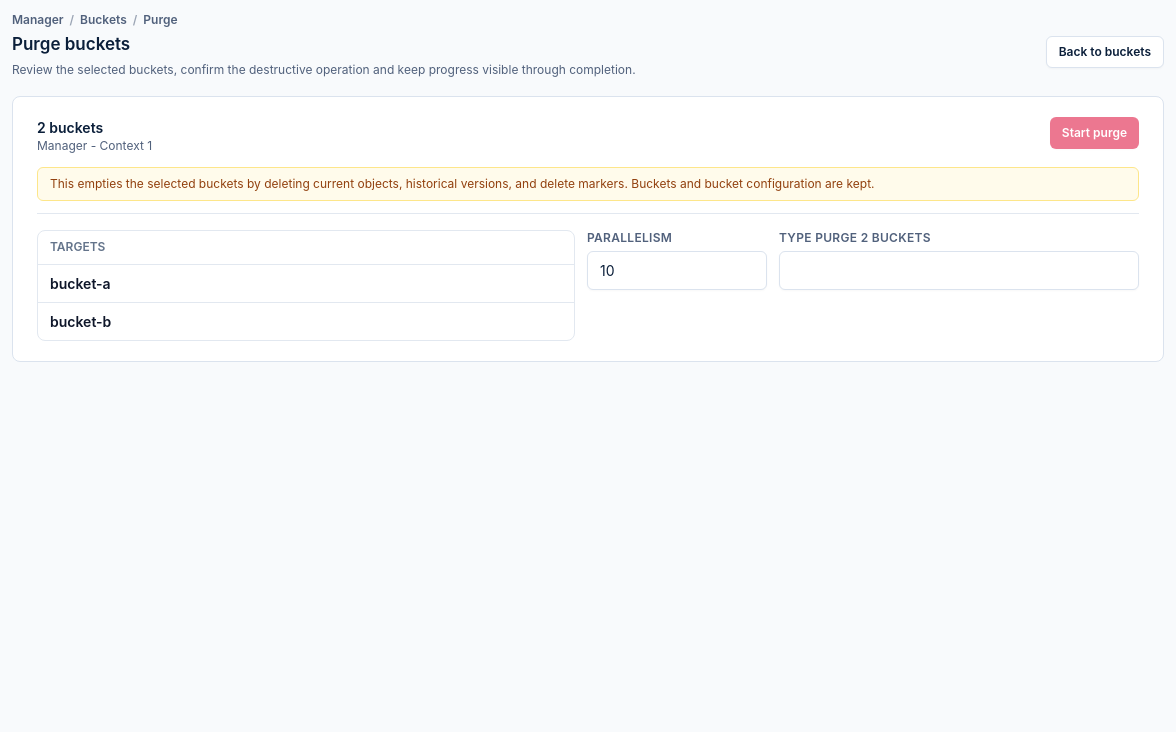
Test: BucketPurgeRunModal › requires the exact confirmation before starting the manager purge
The width and height of the screenshot is (1176, 732).
Expected: the button "Start purge" is disabled, [1050, 117, 1139, 149]
Step 1. Type "PURGE 1 BUCKETS" into the field labelled "Type PURGE 2 BUCKETS" → (959, 270), box [779, 250, 1139, 290]
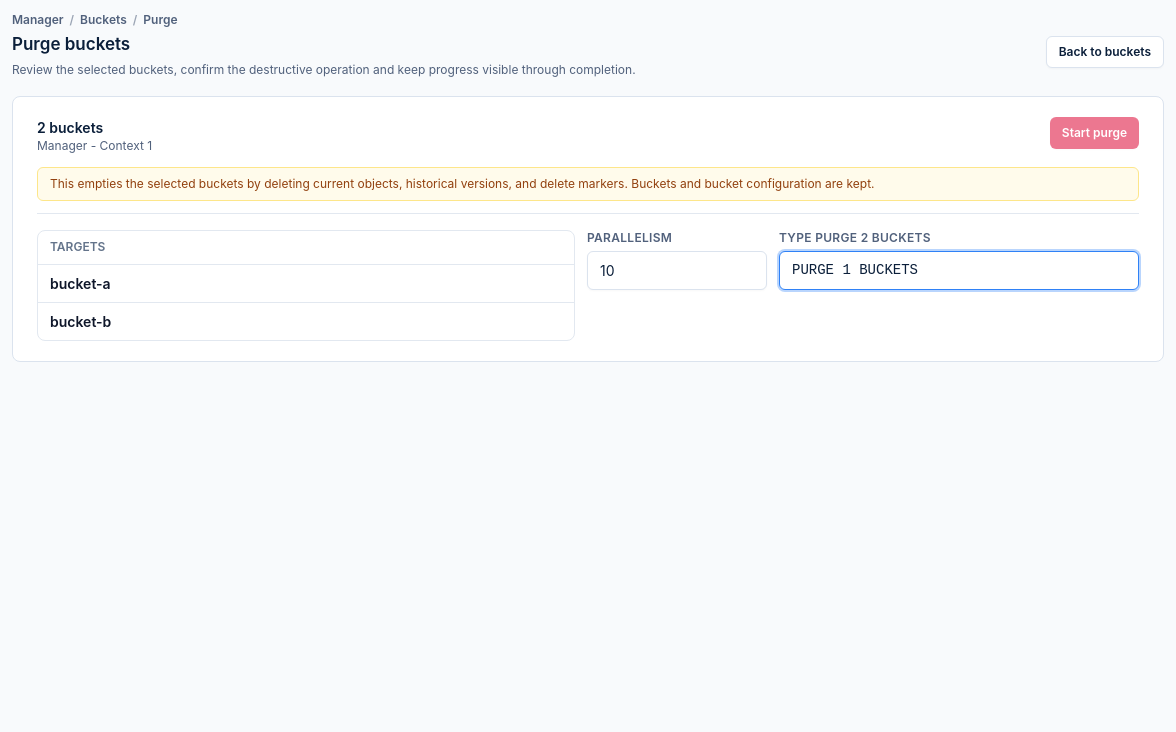
Expected: the button "Start purge" is disabled, [1050, 117, 1139, 149]
Step 2. Replace the text in the field labelled "Type PURGE 2 BUCKETS" with "PURGE 2 BUCKETS" → (959, 270), box [779, 250, 1139, 290]
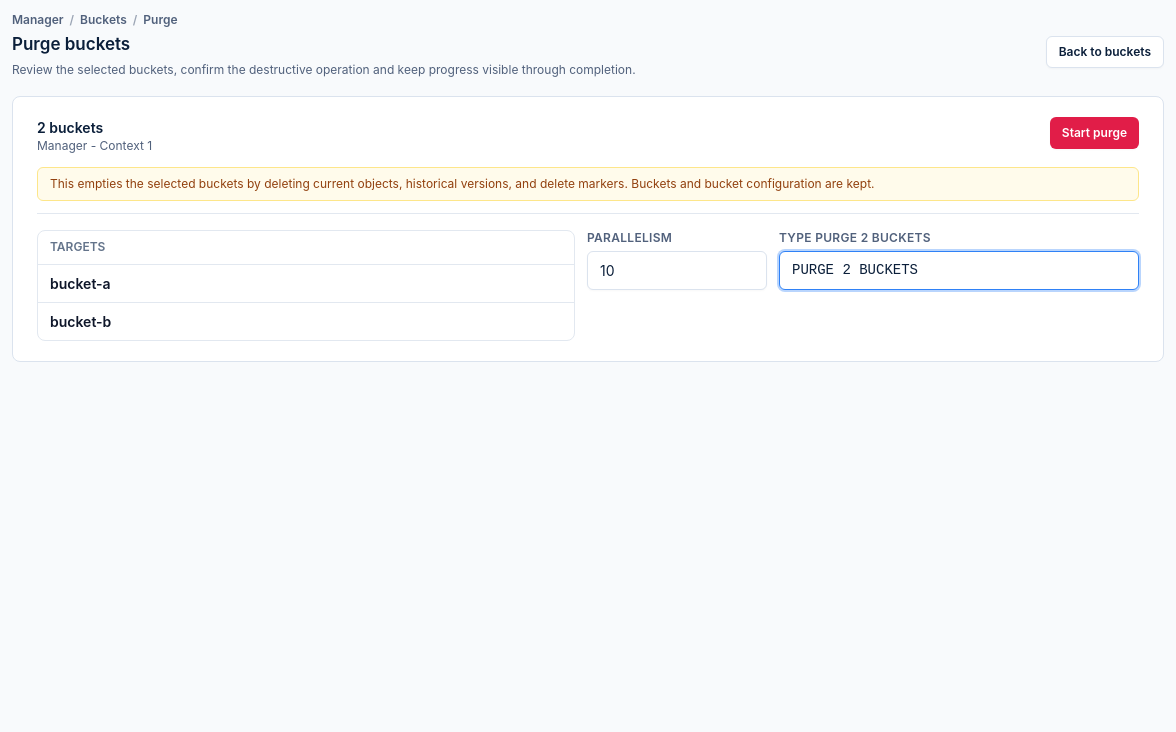
Step 3. Click the button "Start purge" → (1094, 133), box [1050, 117, 1139, 149]
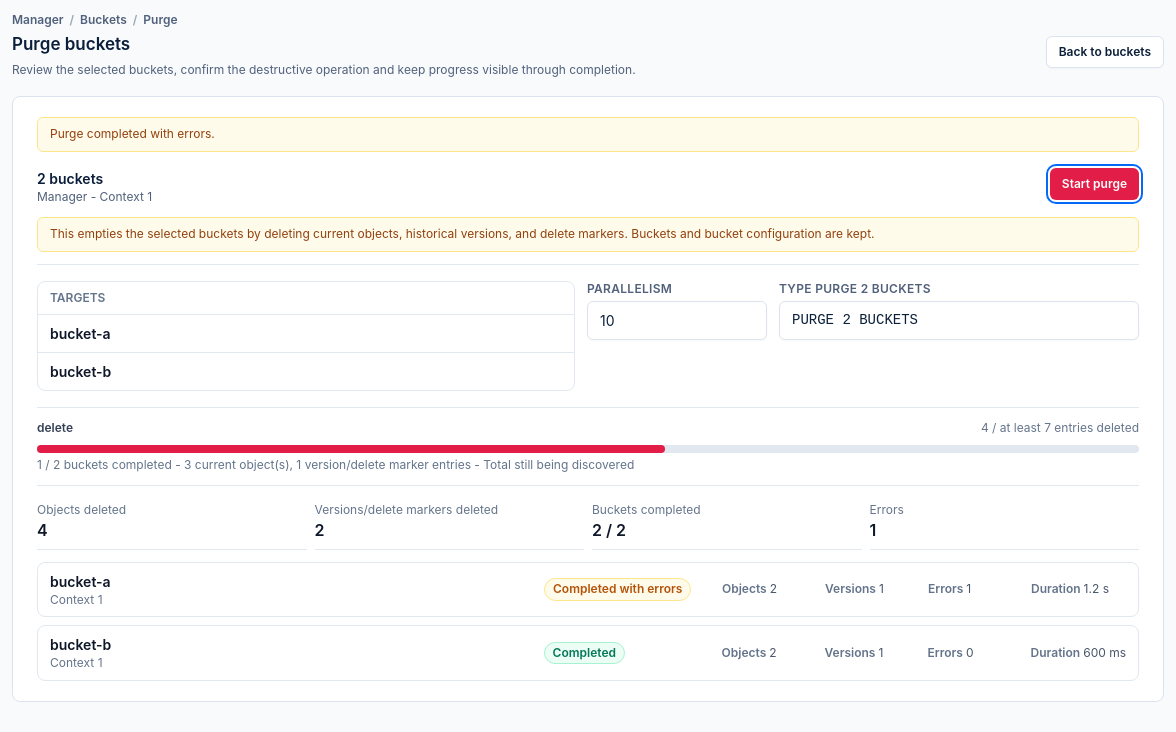
Expected: the text "Total still being discovered" is shown, [471, 456, 634, 472]
Expected: the text "Purge completed with errors." is shown, [37, 117, 1139, 152]
